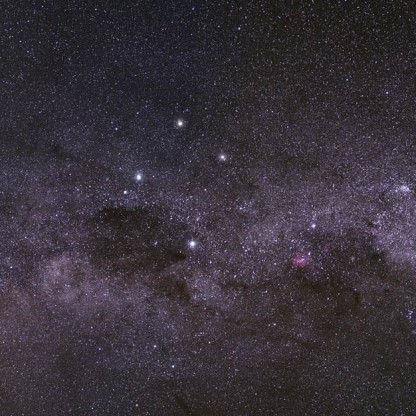Southern Cross: (168, 109, 190, 133), (179, 233, 203, 253), (211, 146, 233, 165), (129, 166, 146, 184)
